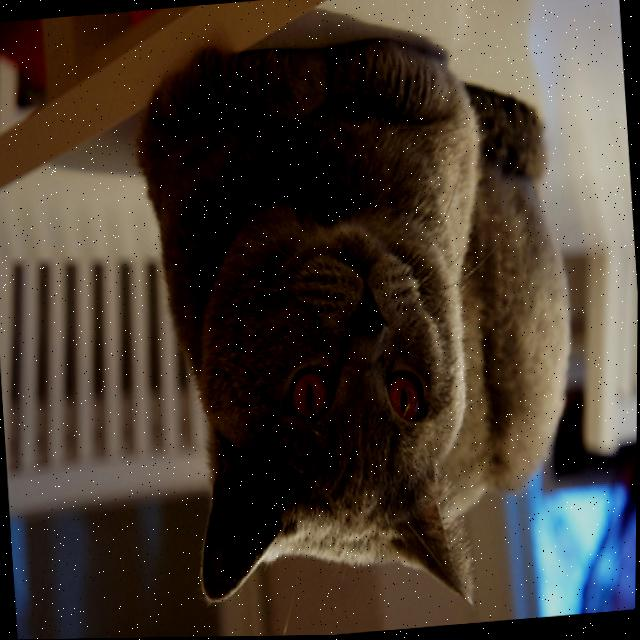British Shorthair: (124, 21, 595, 636)
